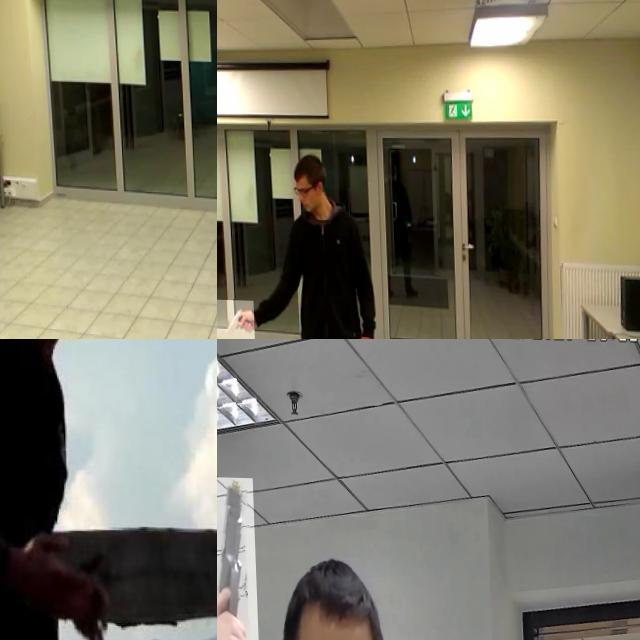gun-knife-thesis - v11 Yolov5 augmented: (217, 475, 257, 640), (217, 298, 251, 339)
